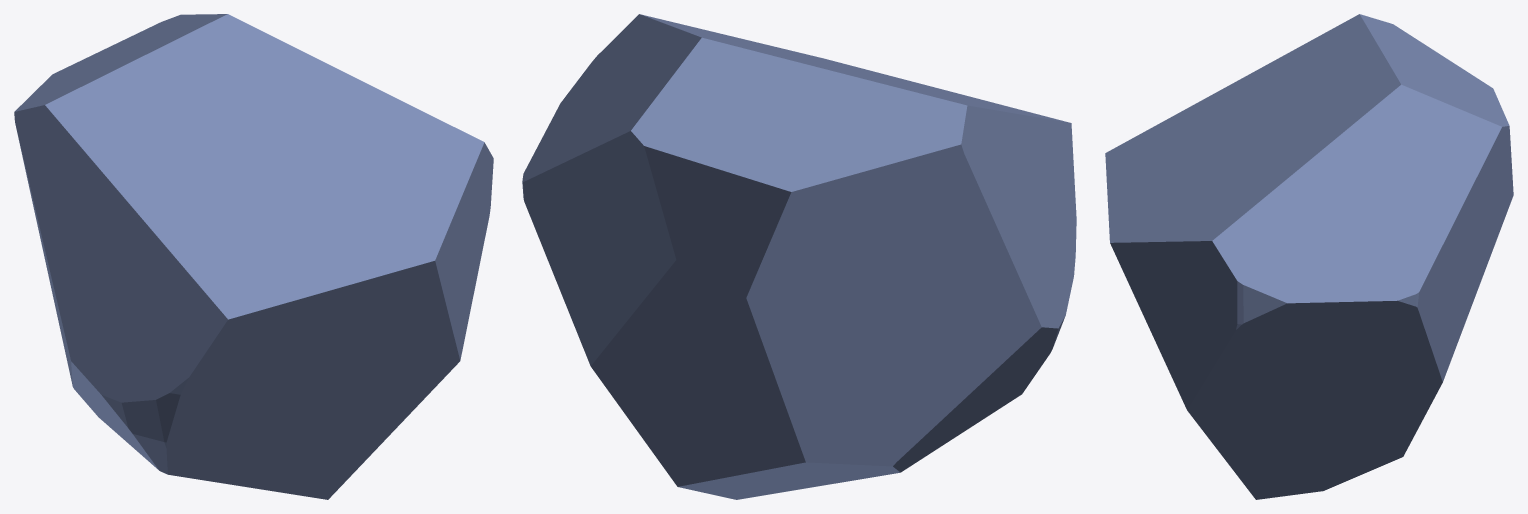
Rendered from rock.fbx.
3 renders of one model, left to right at view 1: azimuth 30°, elevation 25°; view 2: azimuth 150°, elevation 25°; view 3: azimuth 270°, elevation 25°, orthographic. The views are drawn at different scales.
Parts seen in each view (by area): view 1: Sphere; view 2: Sphere; view 3: Sphere.
Boxes of the visible parts, x1=… form: Sphere: x1=14, y1=14, x2=493, y2=499; Sphere: x1=522, y1=14, x2=1076, y2=499; Sphere: x1=1105, y1=14, x2=1513, y2=499.
Bounding box in the file's own units: 187 × 191 × 175.
